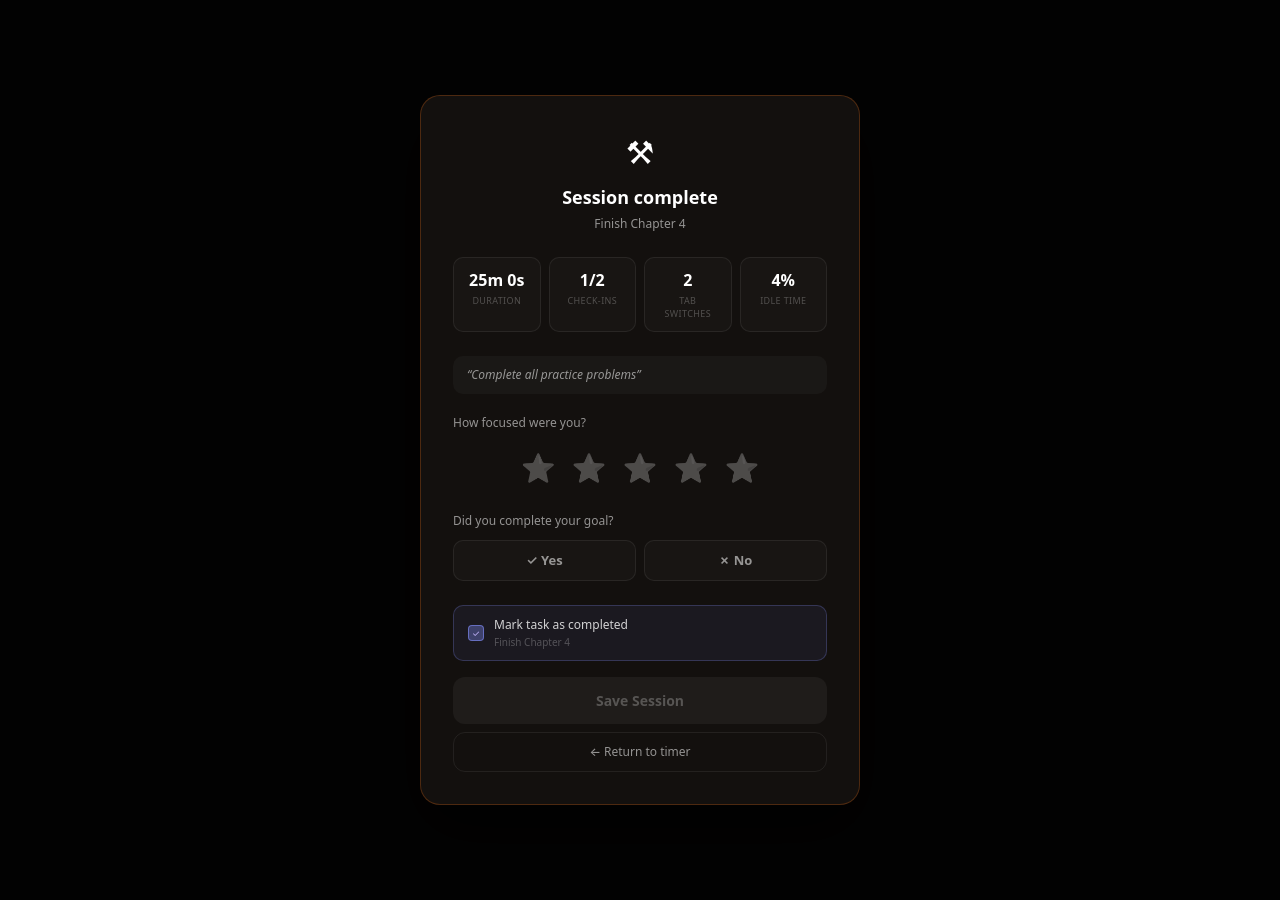
PostSessionCard › disables Save Session until a rating and commitment answer are given
Expected: the button "Save Session" is disabled, [453,677,827,724]
Click the 4th button "⭐" at (691, 467), box [670,442,712,492]
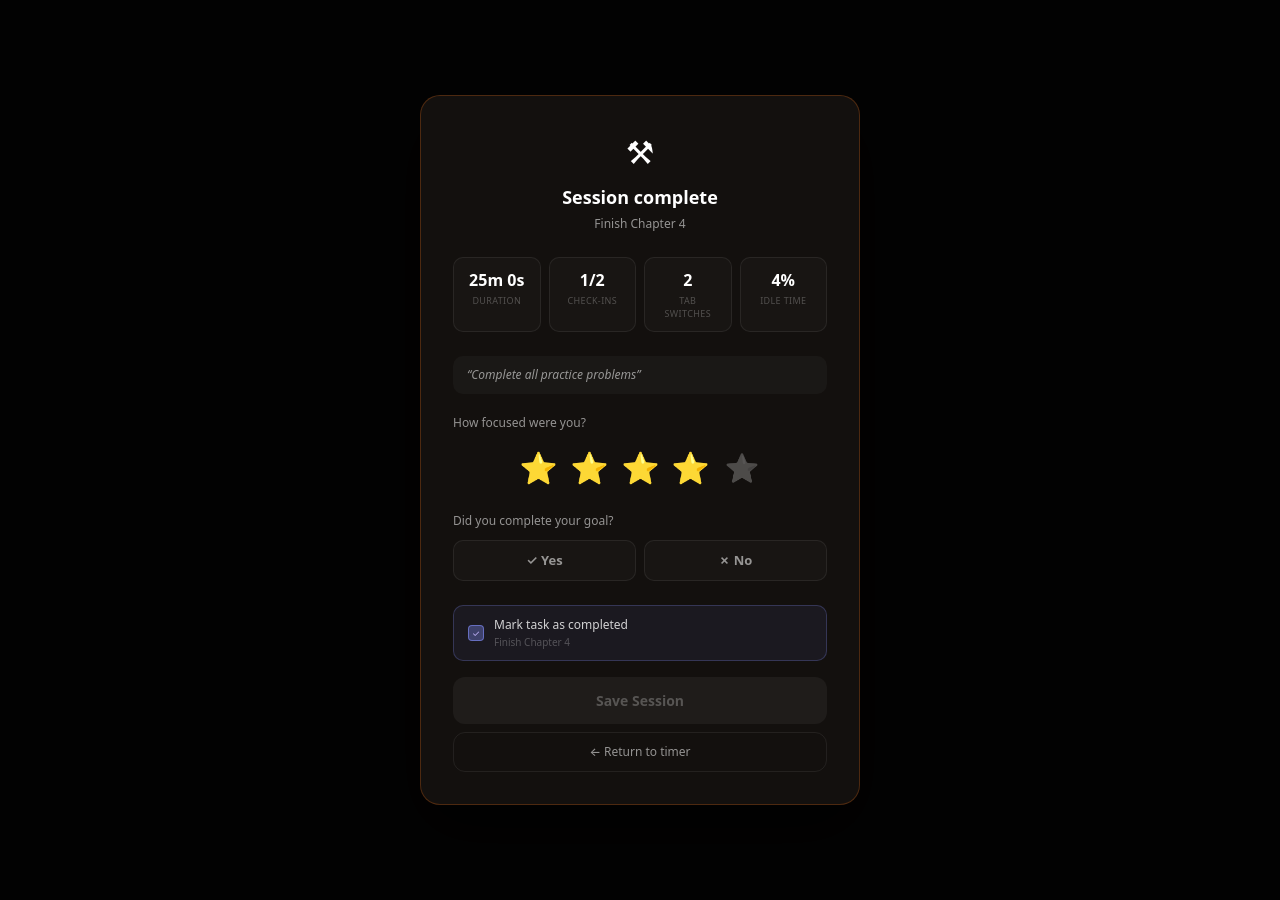
Expected: the button "Save Session" is disabled, [453,677,827,724]
Click the button "✓ Yes" at (544, 561), box [453,540,636,581]
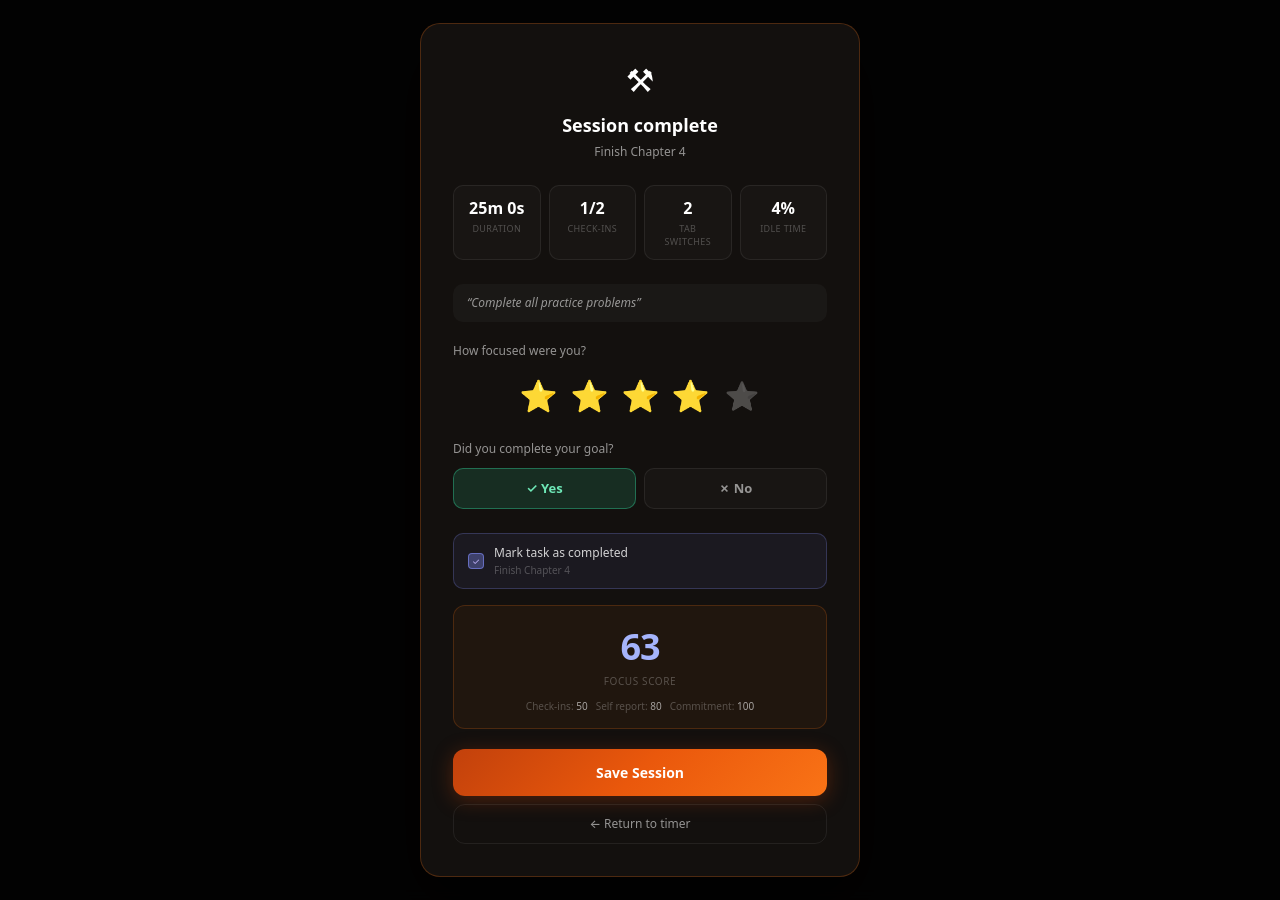
Now the button "Save Session" is enabled, box [453,749,827,796]
